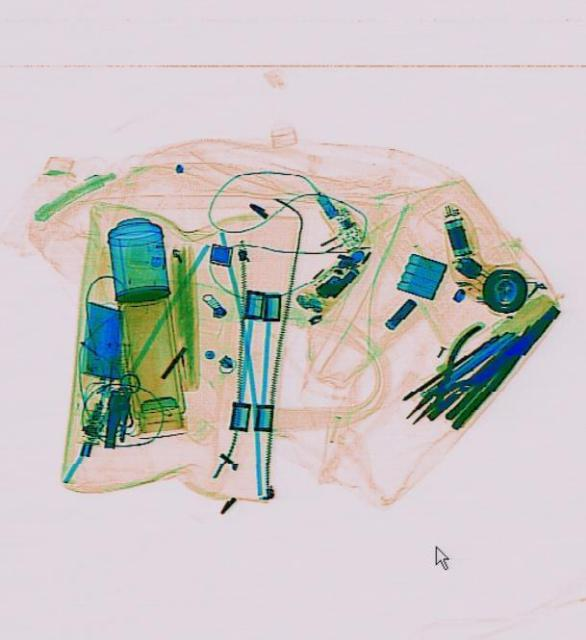Pliers: (389, 320, 508, 438)
